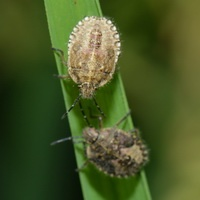insect: (50, 125, 148, 176), (61, 16, 120, 97)
